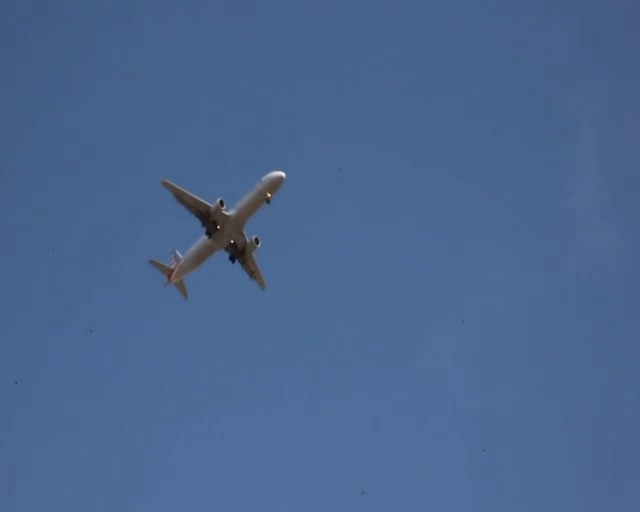AIRPLANE: (154, 167, 287, 296)
